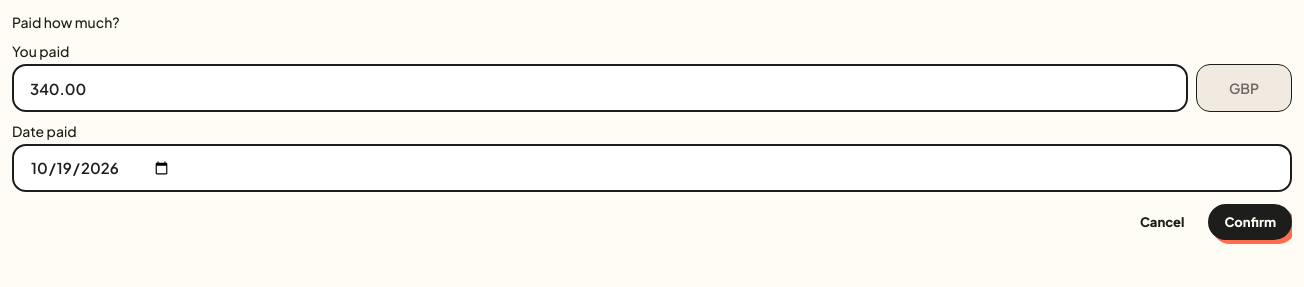
PaidConfirm › surfaces a server amount field error on the field
The image size is (1304, 287).
Click the button "Confirm": (1250, 222) [1208, 204, 1292, 240]
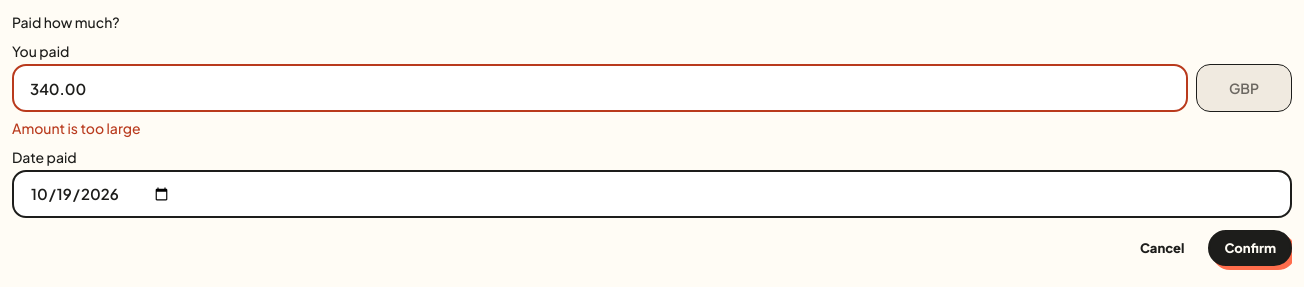
Result: the text "Amount is too large" is shown at [12, 119, 141, 137]
